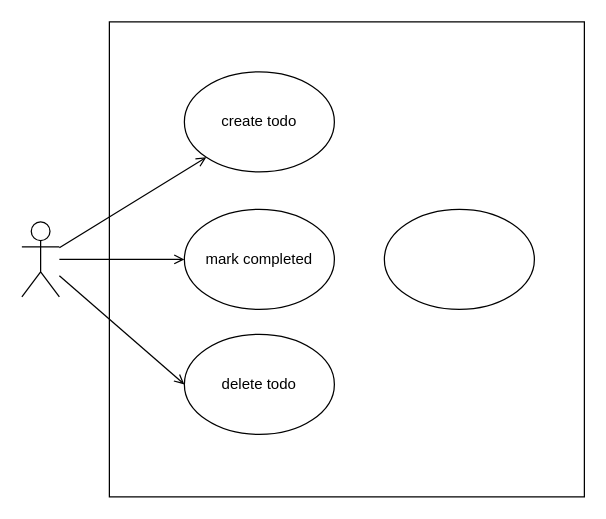
This 606x519 diagram has some shape labels left out. The centre of each missing label's shape, as x and y in pixels:
"Actor" belongs at [40,259].
"display todo" belongs at [458,258].
